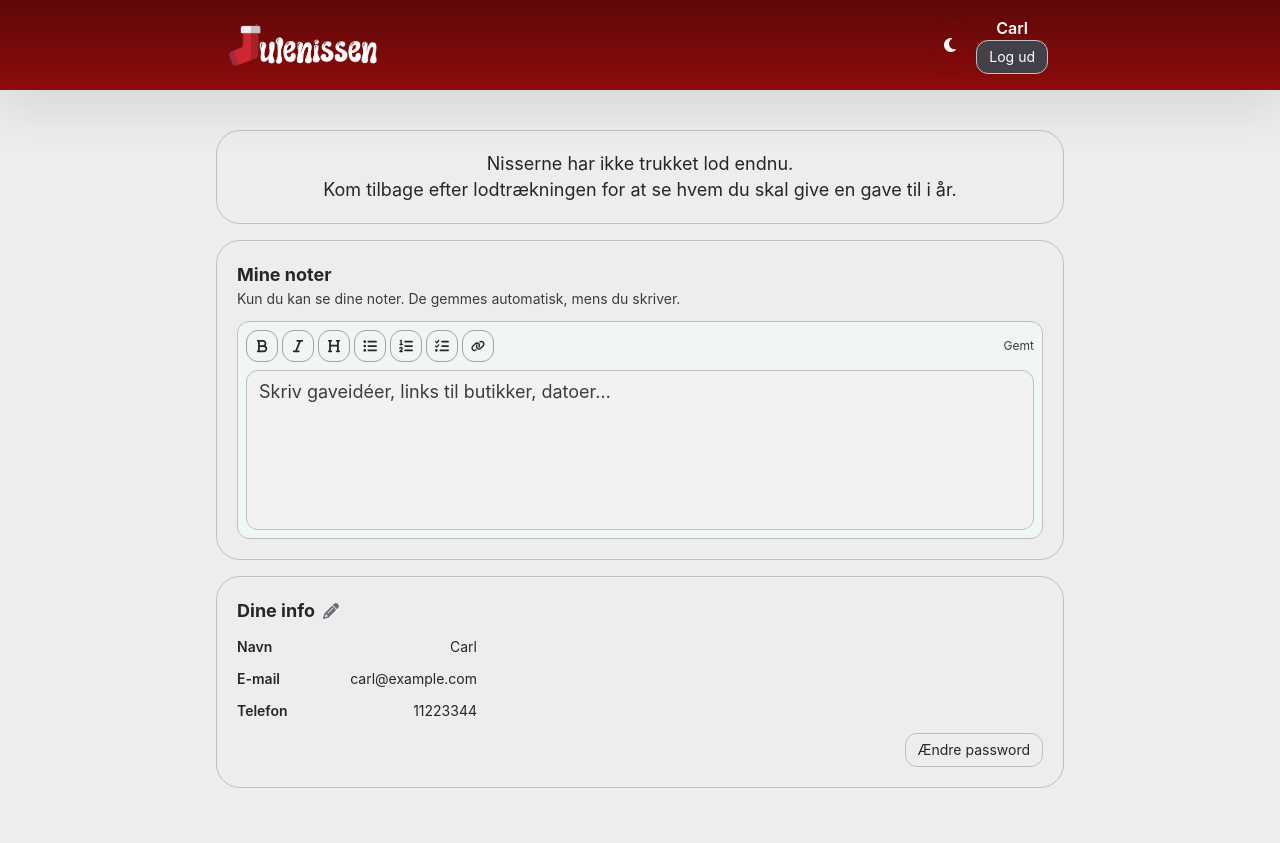
it: private notes › refuses a link that isn't http(s)
Click the button named "Link". click: [478, 346]
box: [462, 330, 494, 362]
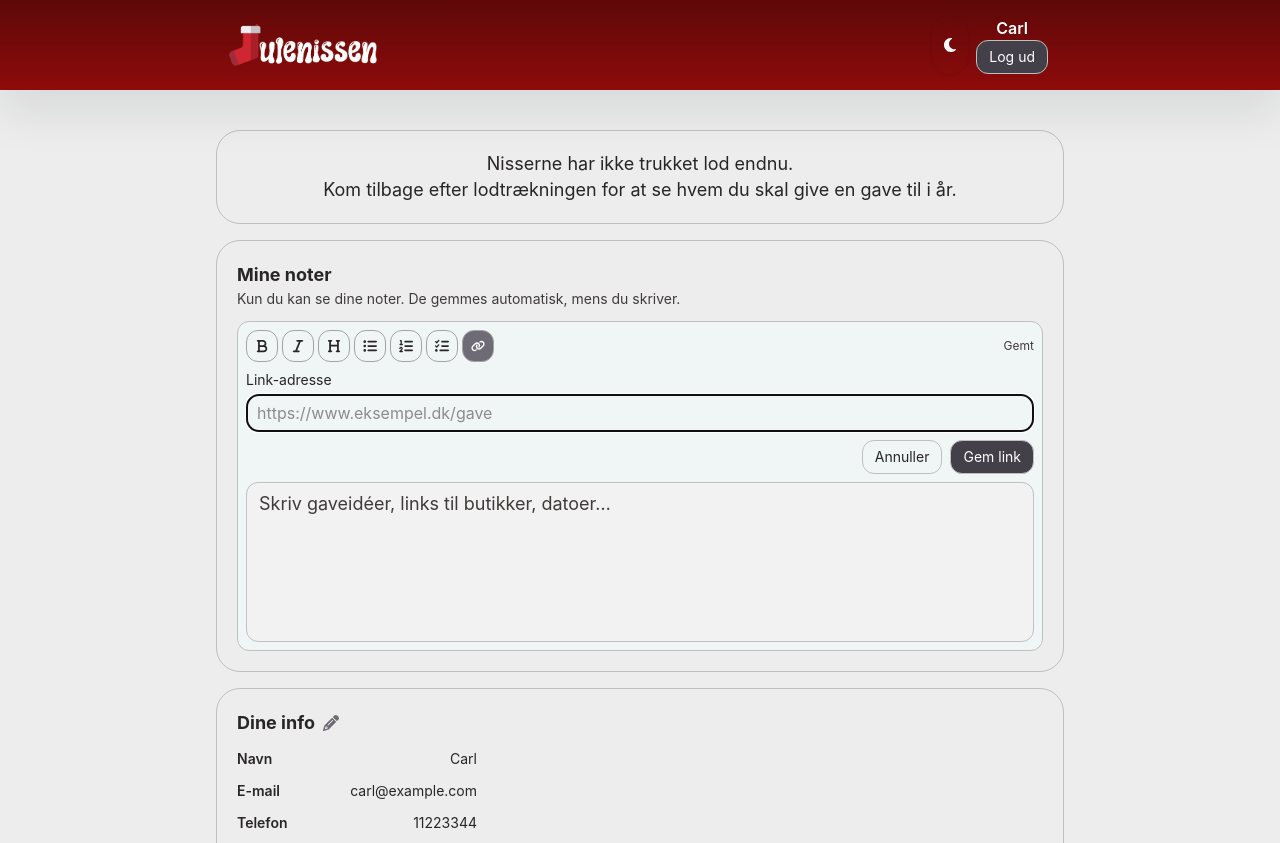
Type "javascript:alert(1)" into the field labelled "Link-adresse". click: [640, 413]
box: [246, 394, 1034, 432]
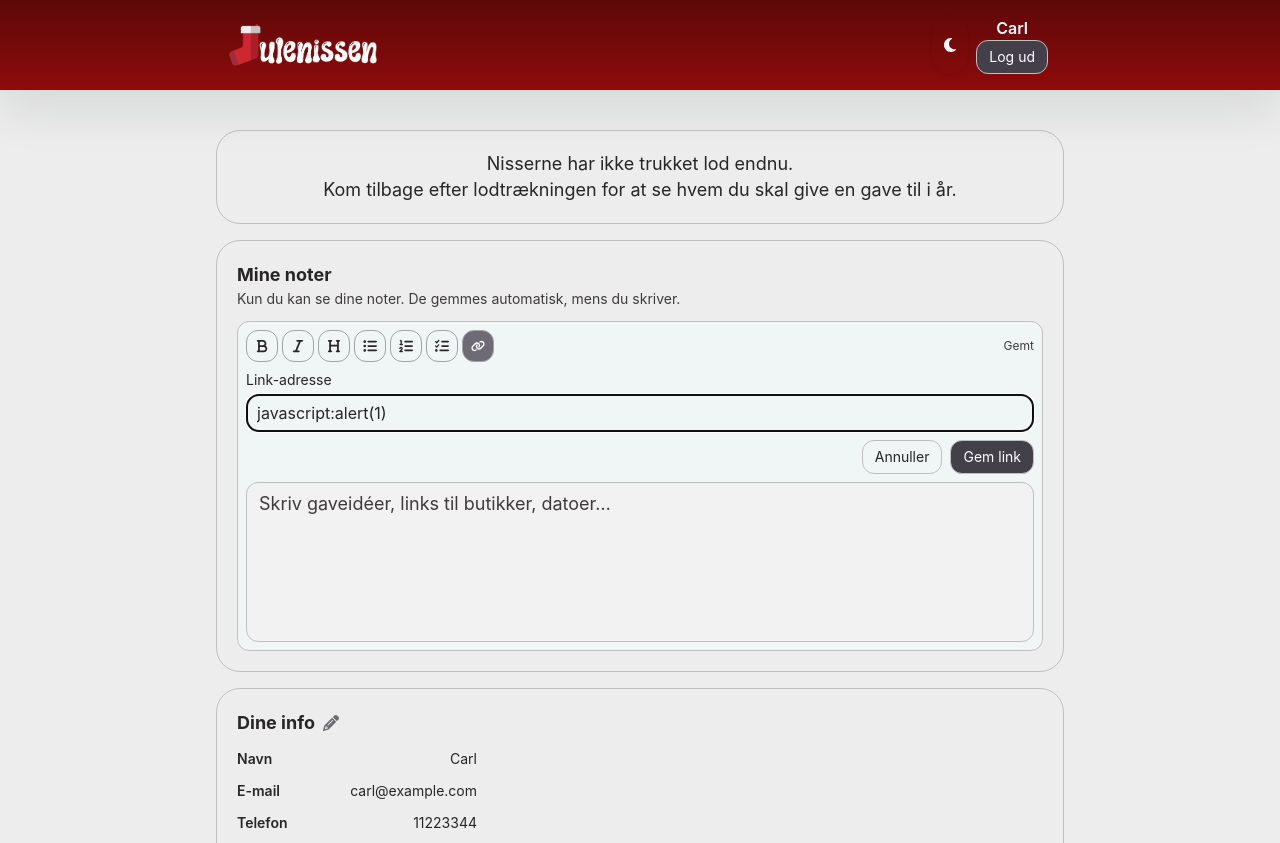
Click the button "Gem link". click: [992, 457]
box: [950, 440, 1034, 474]
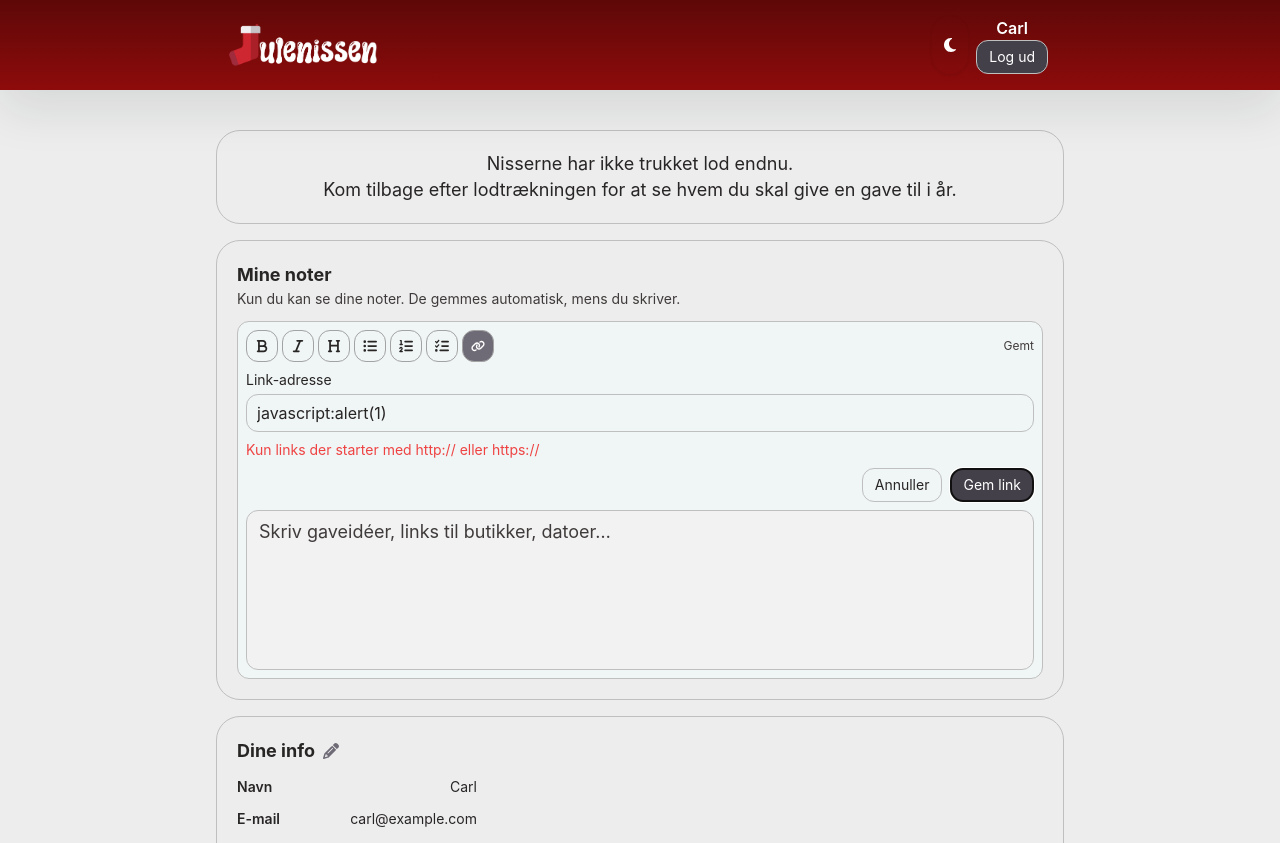
Expected: the text "Kun links der starter med http:// eller https://" is shown, [246, 441, 540, 458]
